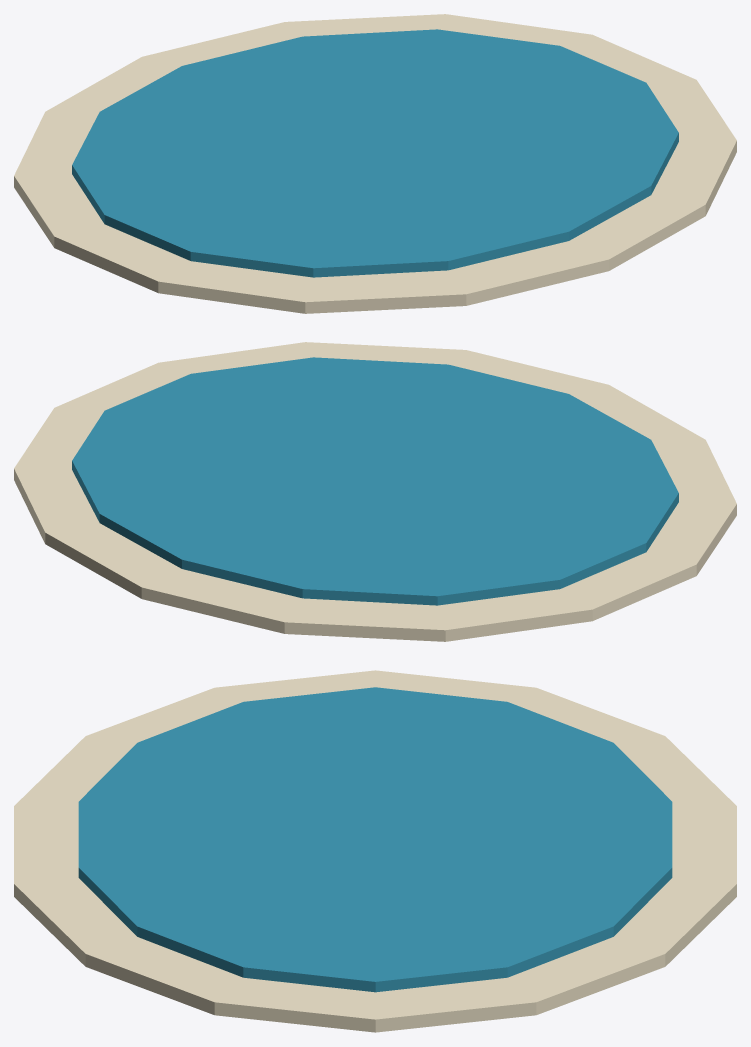
File: env_r13_tide_puddle.glb
3 renders of one model, top to bottom at view 1: azimuth 30°, elevation 25°; view 2: azimuth 150°, elevation 25°; view 3: azimuth 270°, elevation 25°, orthographic. The views are drawn at different scales.
Visible parts, largest first — view 1: env_r13_tide_puddle; view 2: env_r13_tide_puddle; view 3: env_r13_tide_puddle.
Boxes of the visible parts, left/top/right/bottom form: env_r13_tide_puddle: left=14, top=14, right=736, bottom=313; env_r13_tide_puddle: left=14, top=342, right=736, bottom=641; env_r13_tide_puddle: left=14, top=670, right=736, bottom=1032.
Bounding box in the file's own units: 3.2 × 0.1 × 2.8.
1 material, 1 textured.
